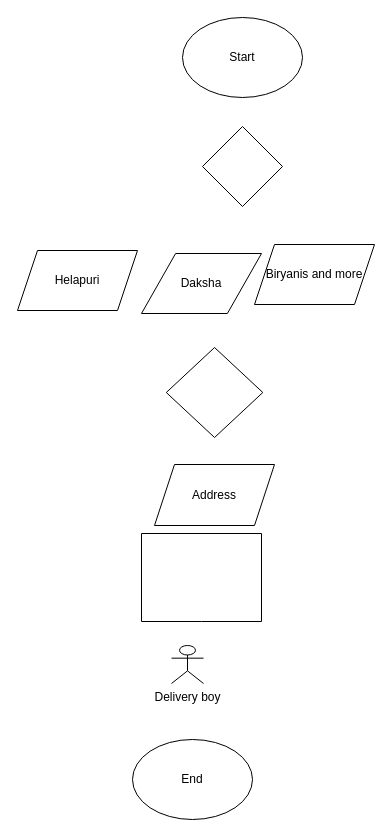
The diagram is 392 pixels wide and 837 high, and some of its shapes have lost their labels. The centre of each missing label's shape, as x and y in pixels:
Confirm order: (x=214, y=392)
No of restaurants: (x=242, y=166)
Payment bill: (x=201, y=577)
